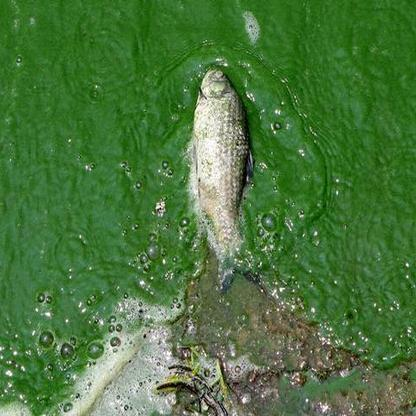deceased fish: (192, 66, 261, 289)
